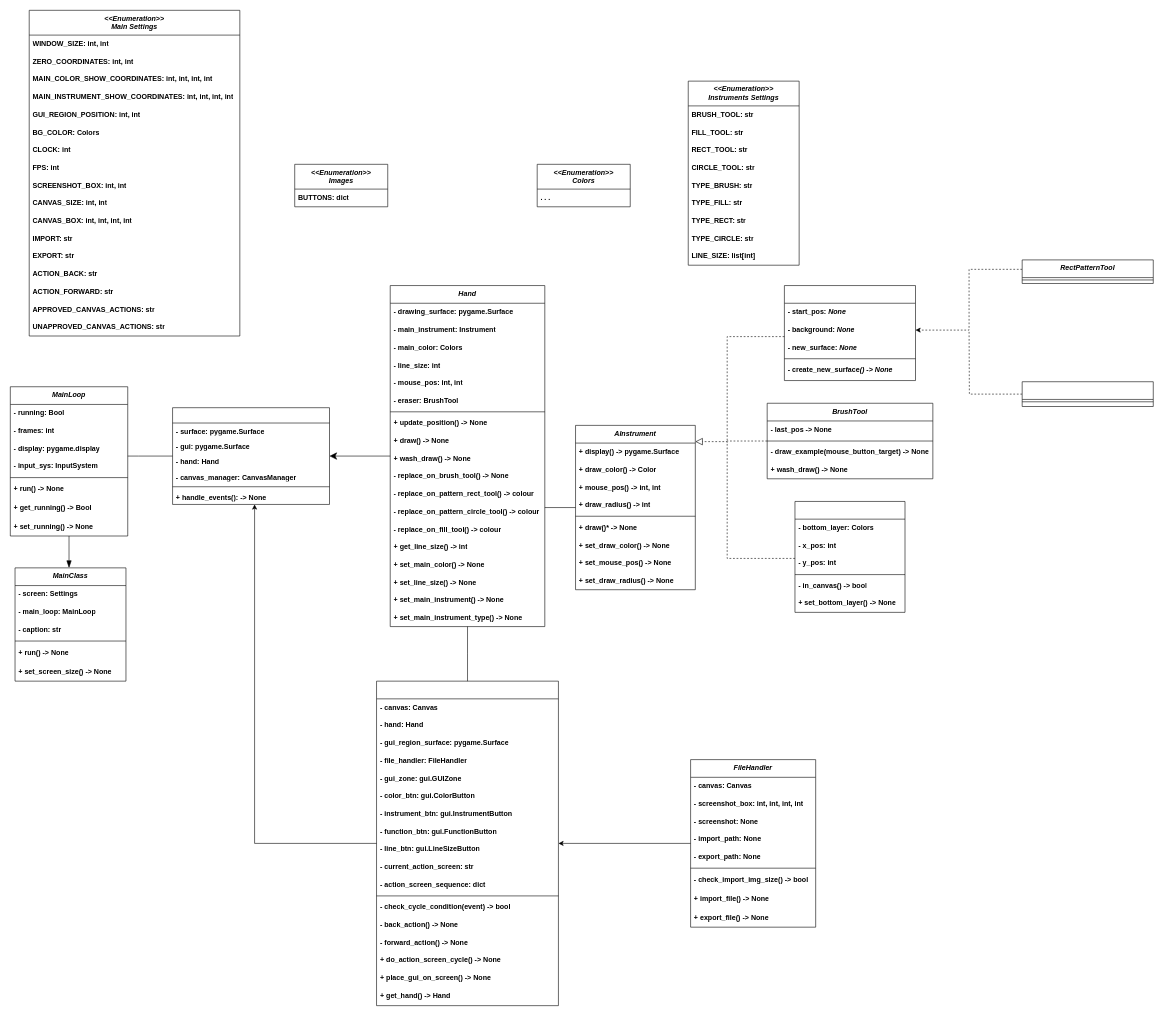
Some shapes in this 1164 by 1016 pixel diagram are drawn without their labels. The shapes that lost their labels are listed below. From the top down, each one's box as (x1, y1, x2, y2) in pixels, then its label:
(784, 285, 916, 381): APatternTool
(1022, 381, 1153, 407): CirclePatternTool
(172, 407, 330, 504): InputSystem
(794, 501, 905, 612): FillTool
(376, 681, 558, 1006): CanvasManager
